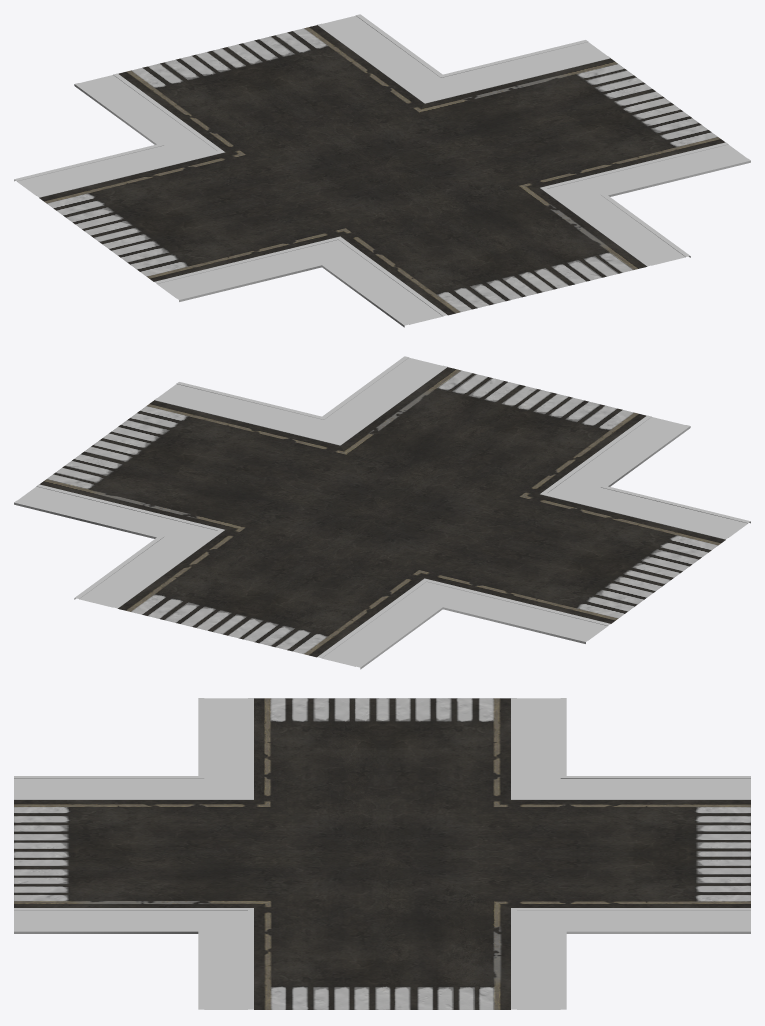
File: Road_Cross_A_A.fbx
3 renders of one model, top to bottom at view 1: azimuth 30°, elevation 25°; view 2: azimuth 150°, elevation 25°; view 3: azimuth 270°, elevation 25°, orthographic. The views are drawn at different scales.
Parts seen in each view (by area): view 1: Road_Cross_A_A; view 2: Road_Cross_A_A; view 3: Road_Cross_A_A.
Boxes of the visible parts, x1,y1,x2,y2 form: Road_Cross_A_A: [14, 14, 750, 327]; Road_Cross_A_A: [14, 356, 750, 669]; Road_Cross_A_A: [14, 698, 750, 1009].
Size of the model in its own units: 3000 by 10.58 by 3000.
